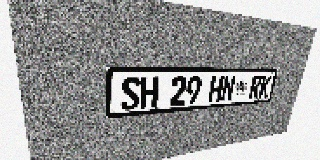2: (170, 76, 188, 106)
9: (185, 76, 202, 105)
H: (140, 76, 159, 109), (208, 76, 224, 103)
K: (258, 75, 272, 98)
N: (220, 75, 236, 102)
R: (248, 75, 263, 99)
S: (121, 77, 141, 111)
